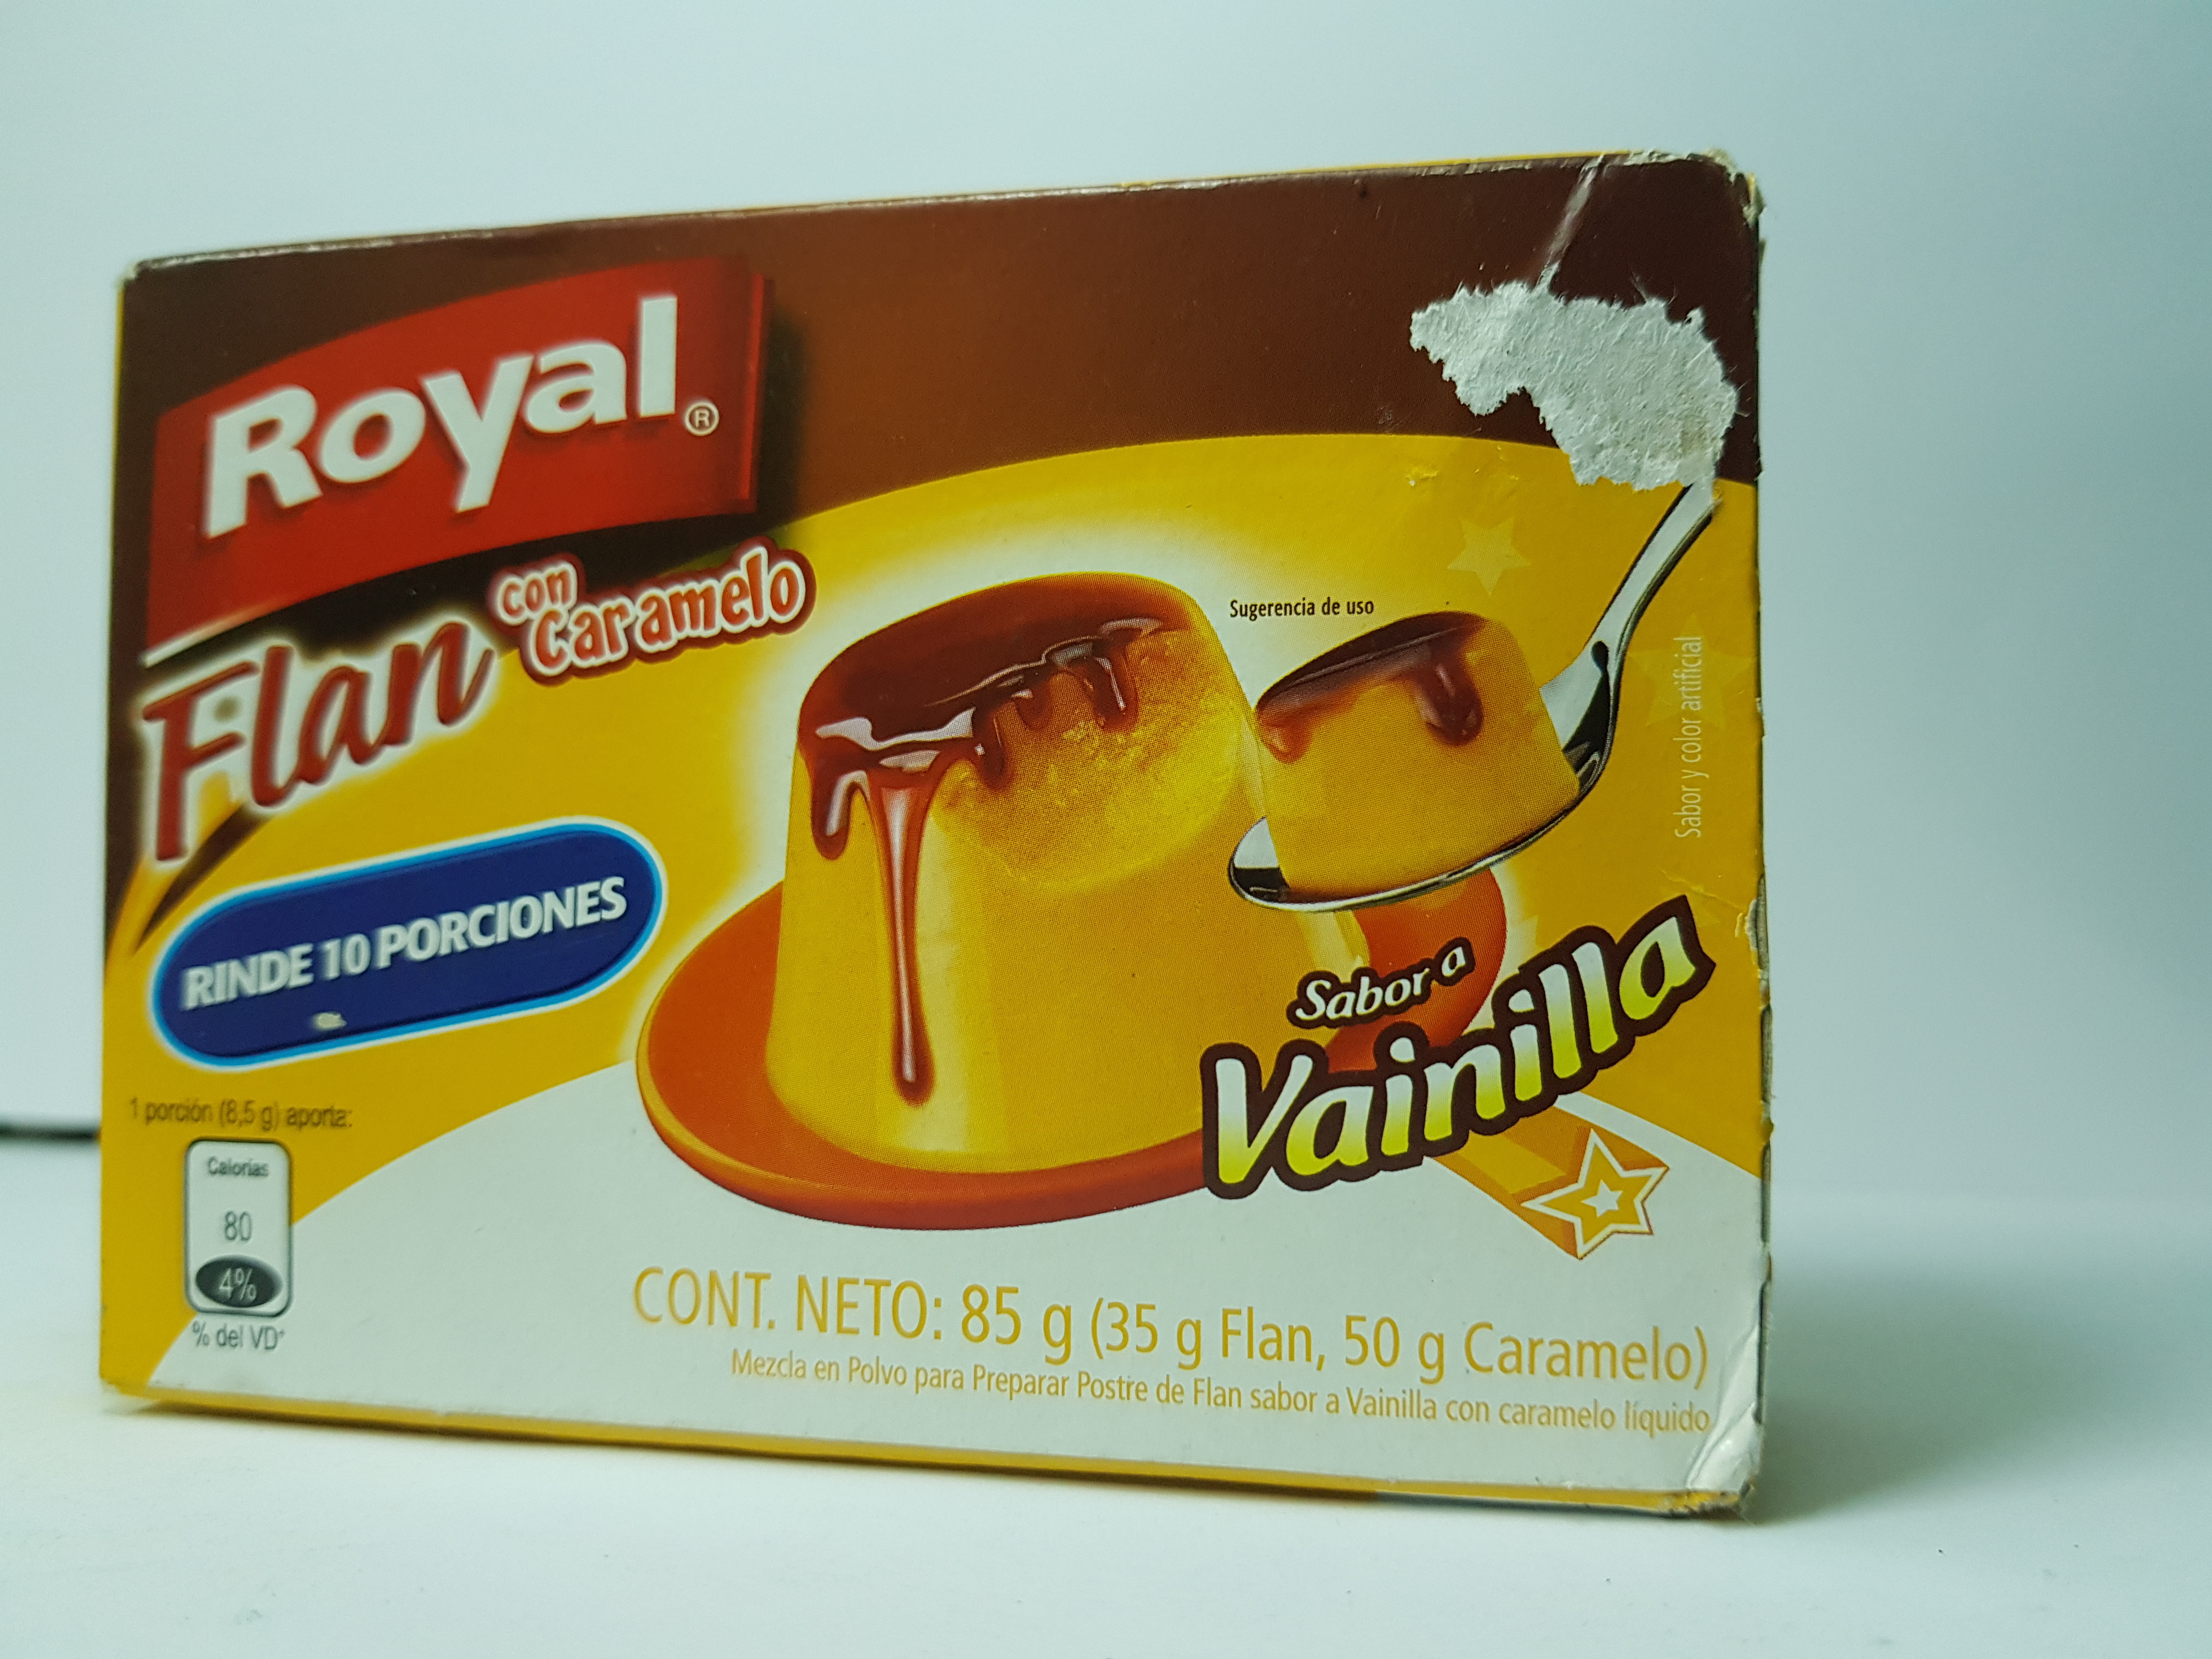flan: (64, 124, 1848, 1546)
